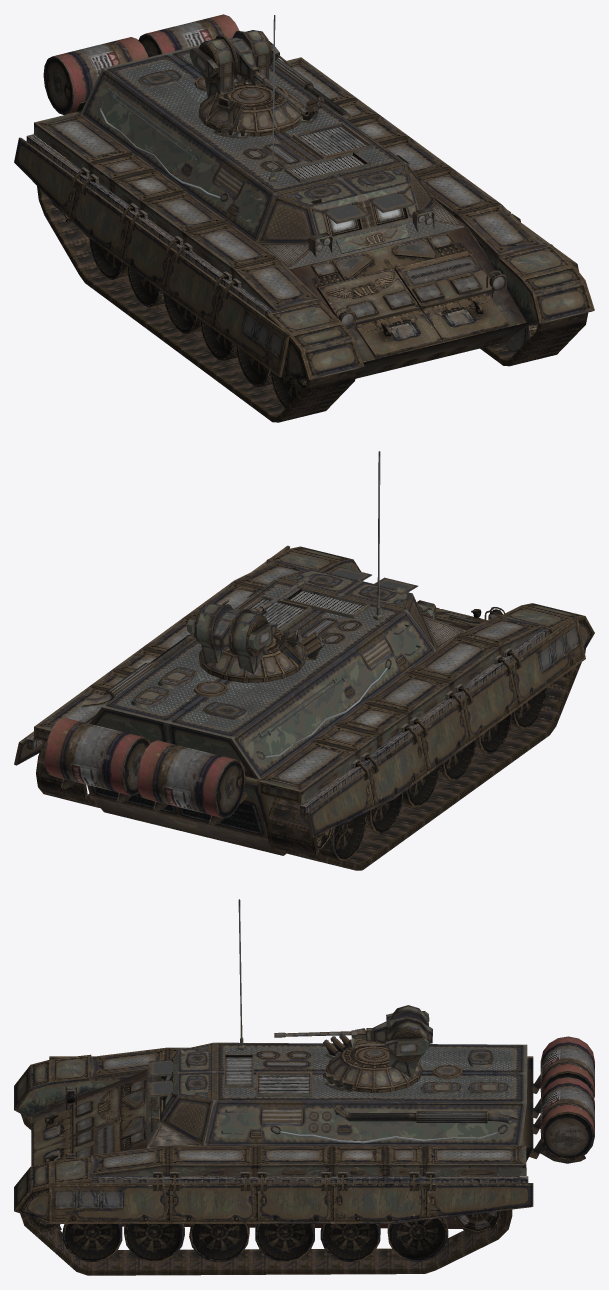
The model's file is infantry_tank.fbx.
The picture shows the model from 3 angles, top to bottom: view 1: azimuth 30°, elevation 25°; view 2: azimuth 150°, elevation 25°; view 3: azimuth 270°, elevation 25°; orthographic projection. The views are drawn at different scales.
Parts seen in each view (by area): view 1: polySurface12869, polySurface12945, polySurface12922, polySurface12946, polySurface12956, polySurface12931, polySurface12855, polySurface12853, polySurface12856, polySurface12854, polySurface12857, polySurface12858; view 2: polySurface12869, polySurface12945, polySurface12922, polySurface12946, polySurface12931, polySurface12853, polySurface12956, polySurface12854, polySurface12856, polySurface12857, polySurface12855, polySurface12858; view 3: polySurface12869, polySurface12945, polySurface12956, polySurface12946, polySurface12867, polySurface12863, polySurface12864, polySurface12866, polySurface12861, polySurface12865, polySurface12931, polySurface12868.
Boxes of the visible parts, left/top/right/bottom form: polySurface12869: left=14, top=14, right=594, bottom=380; polySurface12945: left=80, top=15, right=464, bottom=269; polySurface12922: left=37, top=161, right=357, bottom=422; polySurface12946: left=198, top=30, right=324, bottom=139; polySurface12956: left=480, top=312, right=588, bottom=366; polySurface12931: left=189, top=37, right=308, bottom=116; polySurface12855: left=163, top=292, right=201, bottom=333; polySurface12853: left=89, top=238, right=127, bottom=280; polySurface12856: left=199, top=319, right=237, bottom=360; polySurface12854: left=126, top=266, right=164, bottom=307; polySurface12857: left=235, top=346, right=272, bottom=386; polySurface12858: left=270, top=371, right=306, bottom=408; polySurface12869: left=14, top=545, right=594, bottom=855; polySurface12945: left=81, top=451, right=465, bottom=779; polySurface12922: left=267, top=631, right=585, bottom=870; polySurface12946: left=194, top=603, right=324, bottom=682; polySurface12931: left=187, top=576, right=310, bottom=650; polySurface12853: left=319, top=812, right=366, bottom=860; polySurface12956: left=36, top=742, right=100, bottom=808; polySurface12854: left=365, top=792, right=403, bottom=833; polySurface12856: left=438, top=739, right=476, bottom=780; polySurface12857: left=474, top=713, right=512, bottom=753; polySurface12855: left=402, top=766, right=439, bottom=807; polySurface12858: left=510, top=688, right=546, bottom=728; polySurface12869: left=14, top=1036, right=594, bottom=1228; polySurface12945: left=147, top=899, right=527, bottom=1147; polySurface12956: left=20, top=1173, right=512, bottom=1275; polySurface12946: left=323, top=1005, right=428, bottom=1092; polySurface12867: left=387, top=1217, right=448, bottom=1261; polySurface12863: left=124, top=1224, right=184, bottom=1262; polySurface12864: left=189, top=1224, right=249, bottom=1262; polySurface12866: left=320, top=1224, right=380, bottom=1261; polySurface12861: left=62, top=1224, right=122, bottom=1261; polySurface12865: left=255, top=1224, right=314, bottom=1261; polySurface12931: left=274, top=1011, right=432, bottom=1055; polySurface12868: left=453, top=1211, right=500, bottom=1234.
Size of the model in its own units: 194 by 196 by 354.
